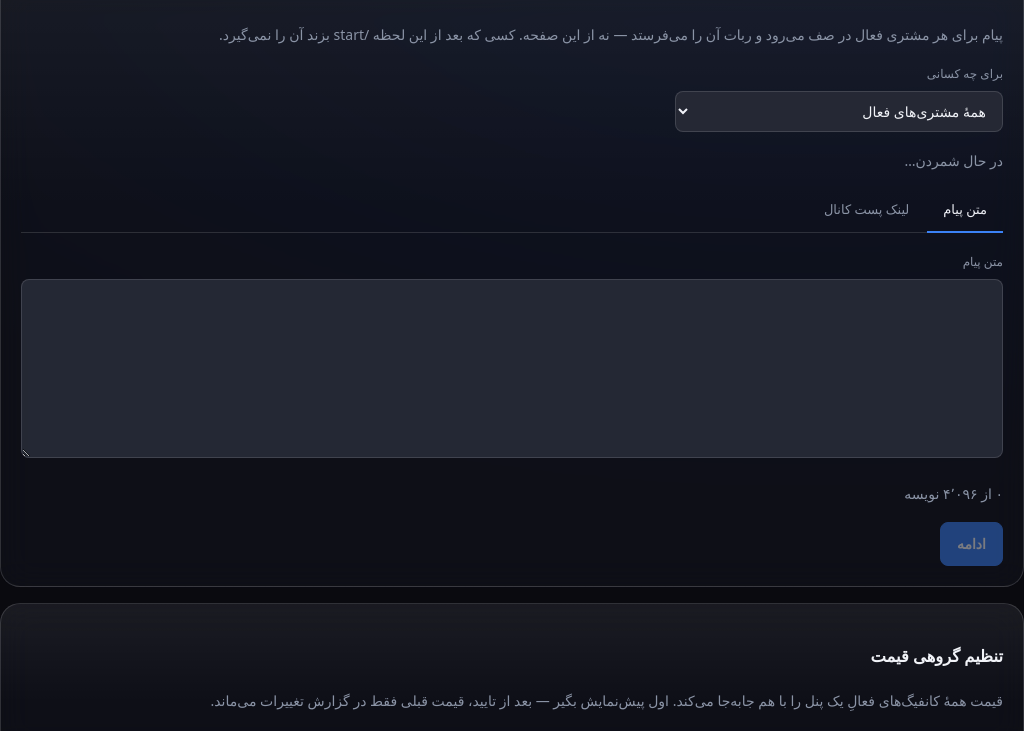
Test case: choosing who hears a broadcast › refuses an audience with nobody in it, and says so
(page scrolled)
Type "سلام" into the text box labelled "متن پیام" at (512, 369), box [21,279,1003,458]
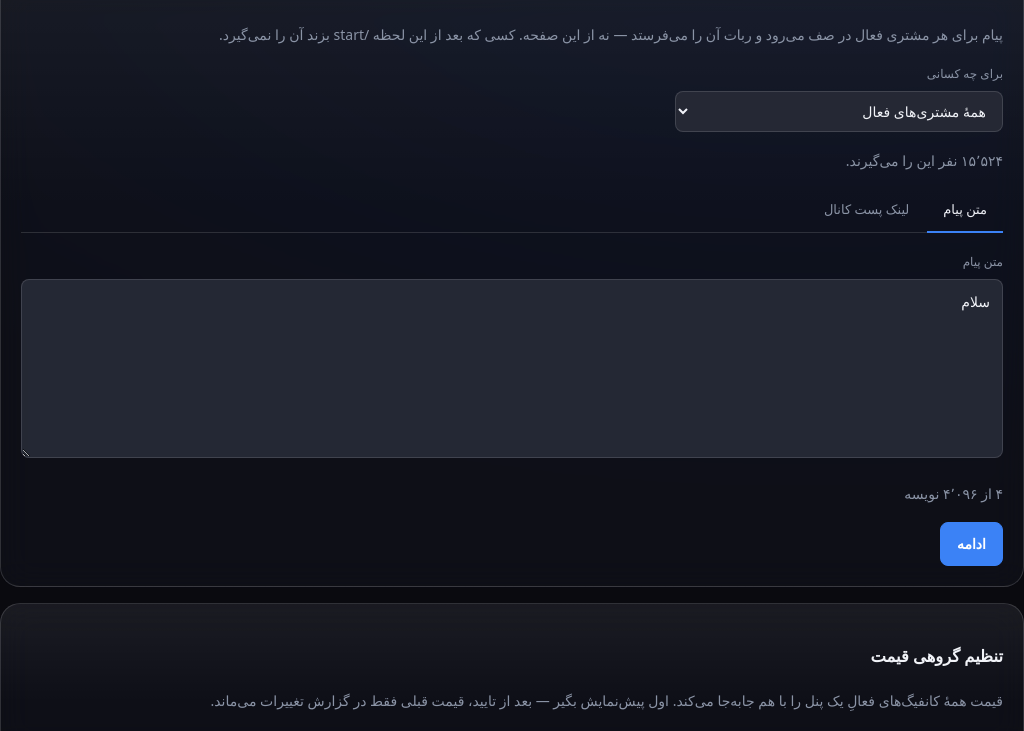
Select "سرویس فعال روی یک پنل مشخص دارد" in the dropdown labelled "برای چه کسانی" at (839, 111), box [675,91,1003,132]
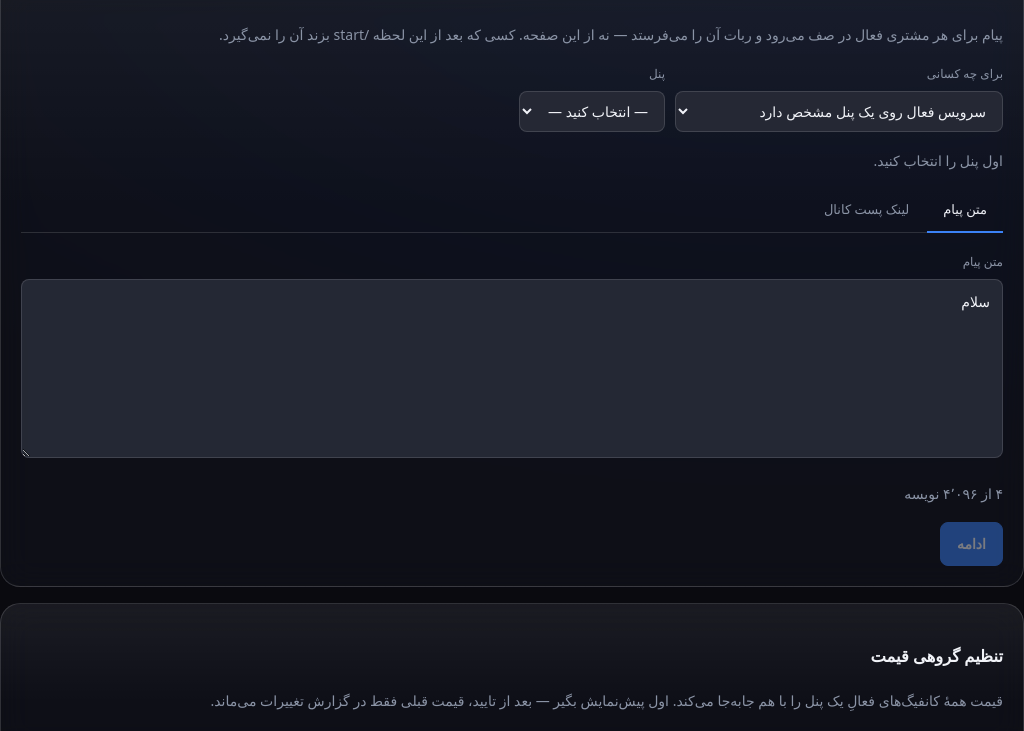
Select "پنل خالی" in the dropdown labelled "پنل" at (592, 111), box [519,91,665,132]
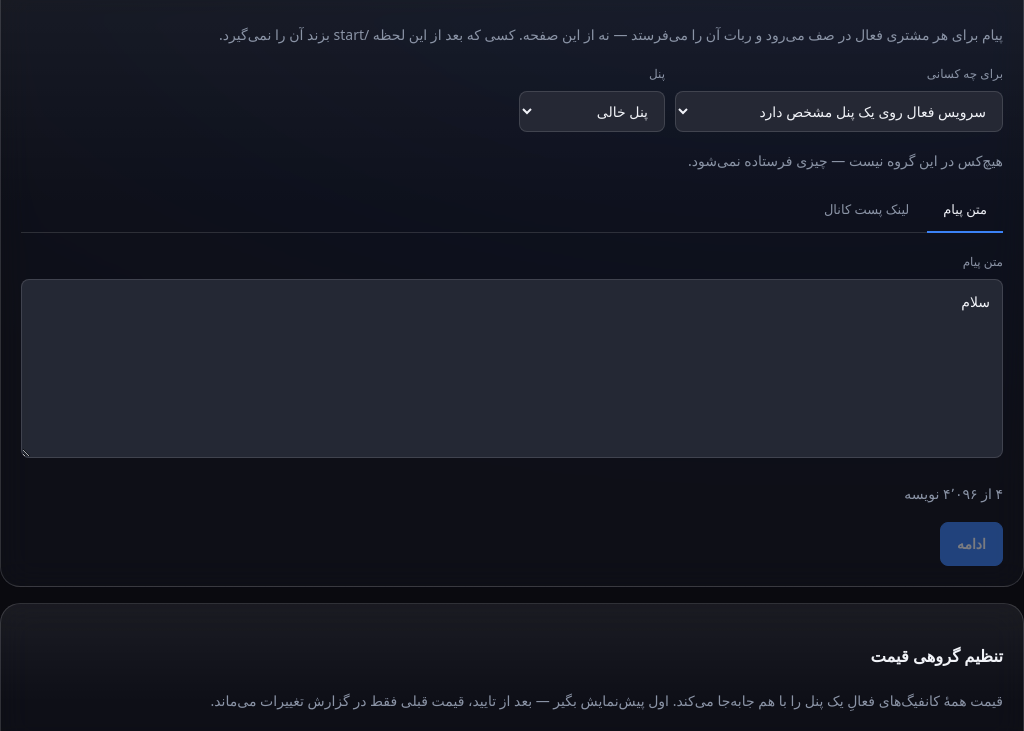
expect the button "ادامه" is disabled: met, box [940,522,1003,566]
expect the text "هیچ‌کس در این گروه نیست — چیزی فرستاده نمی‌شود." is shown: met, box [688,151,1003,170]
